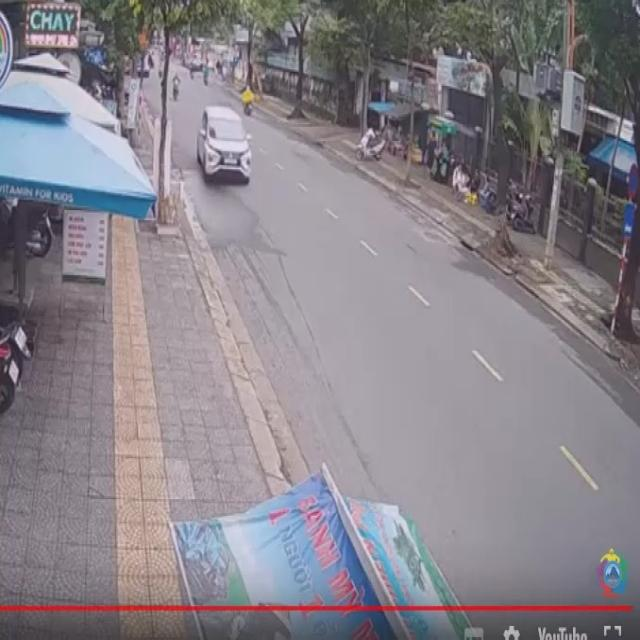car: (196, 101, 256, 190)
